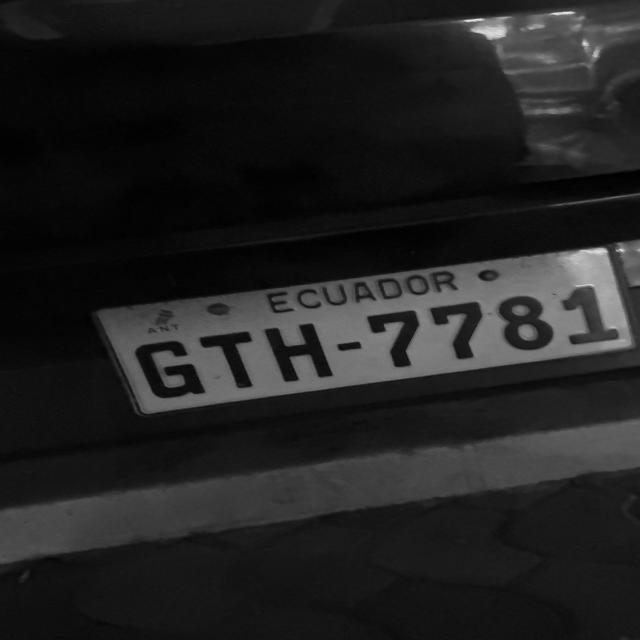Placa: (96, 249, 633, 414)
